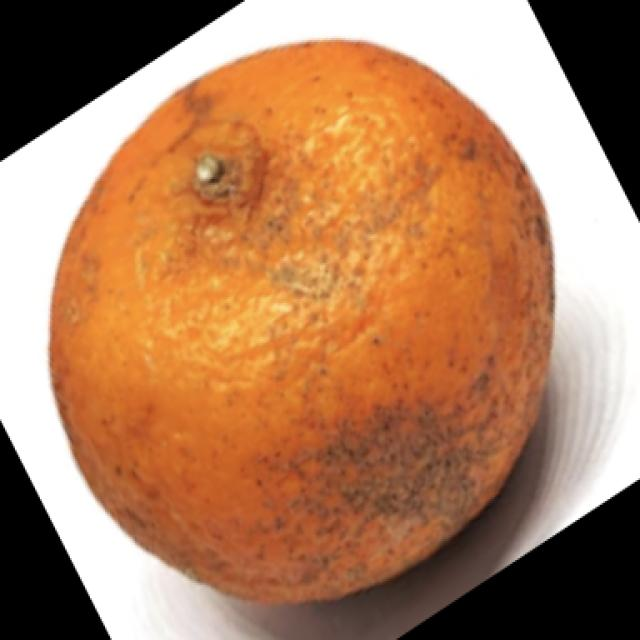sedikit_busuk: (54, 44, 545, 592)
